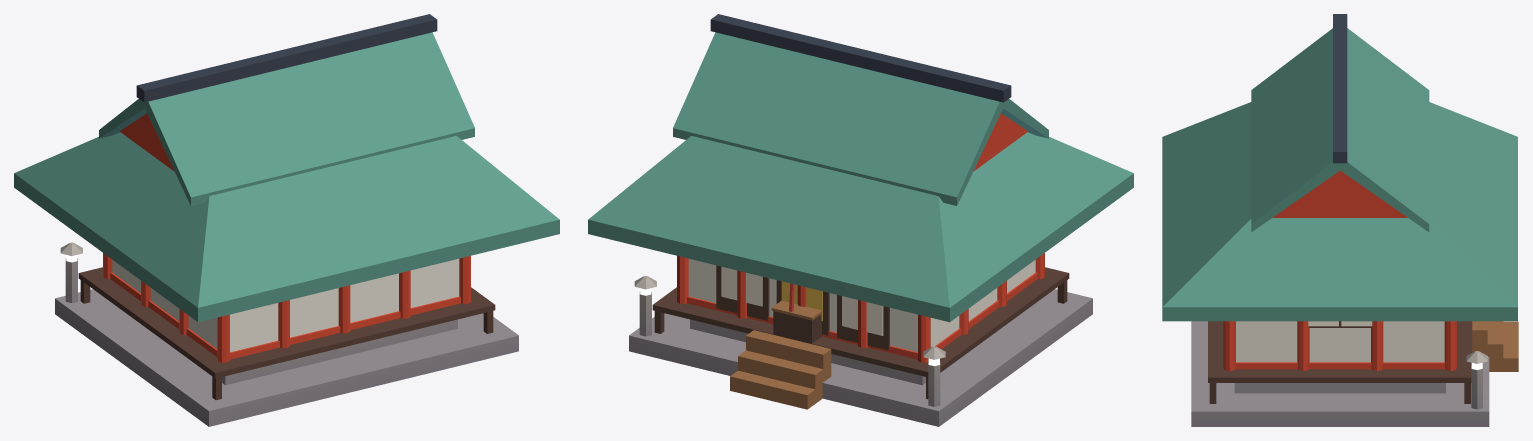
Rendered from shrine.glb.
The picture shows the model from 3 angles, left to right: view 1: azimuth 30°, elevation 25°; view 2: azimuth 150°, elevation 25°; view 3: azimuth 270°, elevation 25°; orthographic projection. The views are drawn at different scales.
Parts seen in each view (by area): view 1: shrine; view 2: shrine; view 3: shrine.
Part boxes in pixels (x1,y1,x2,y2): shrine: (14,14,559,426); shrine: (588,14,1133,426); shrine: (1162,14,1518,426).
Size of the model in its own units: 8.4 by 6.22 by 7.41.
